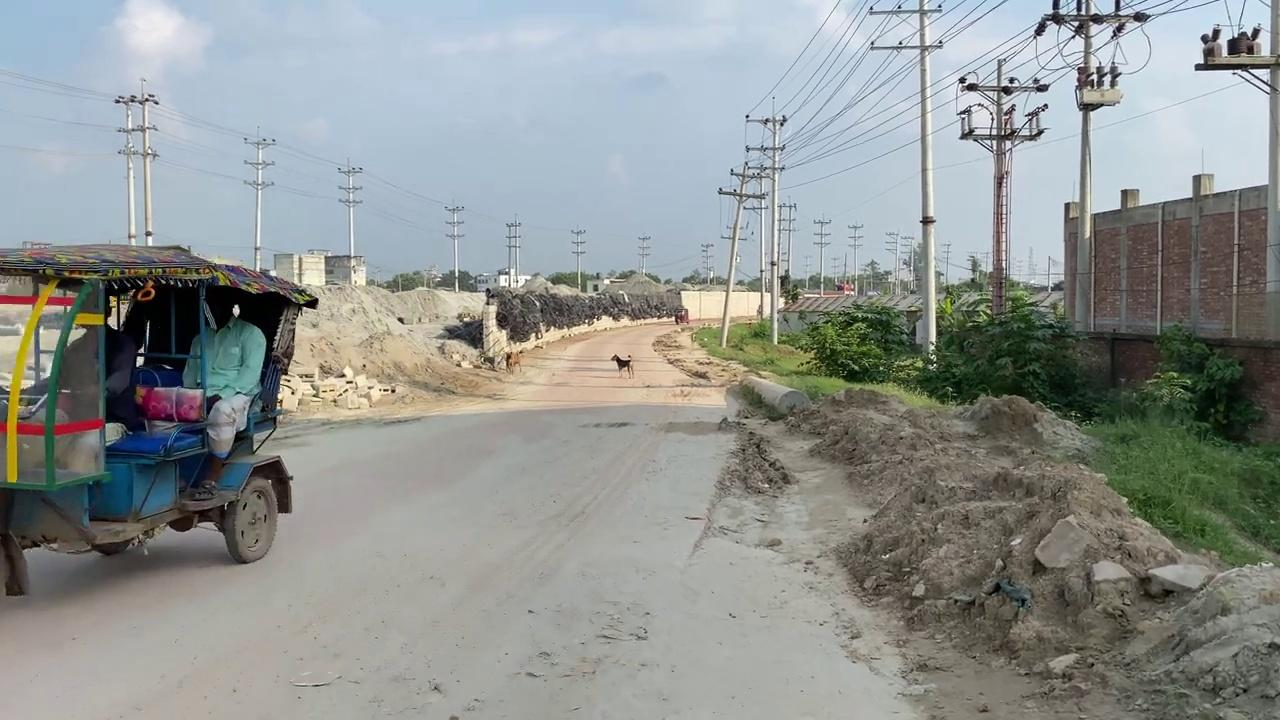Dog: (609, 353, 633, 379), (504, 349, 521, 373)
Pole: (899, 0, 957, 363), (1062, 1, 1097, 338), (760, 117, 788, 348)
Tree: (0, 240, 318, 595)
Upstairs: (1063, 178, 1277, 340)
